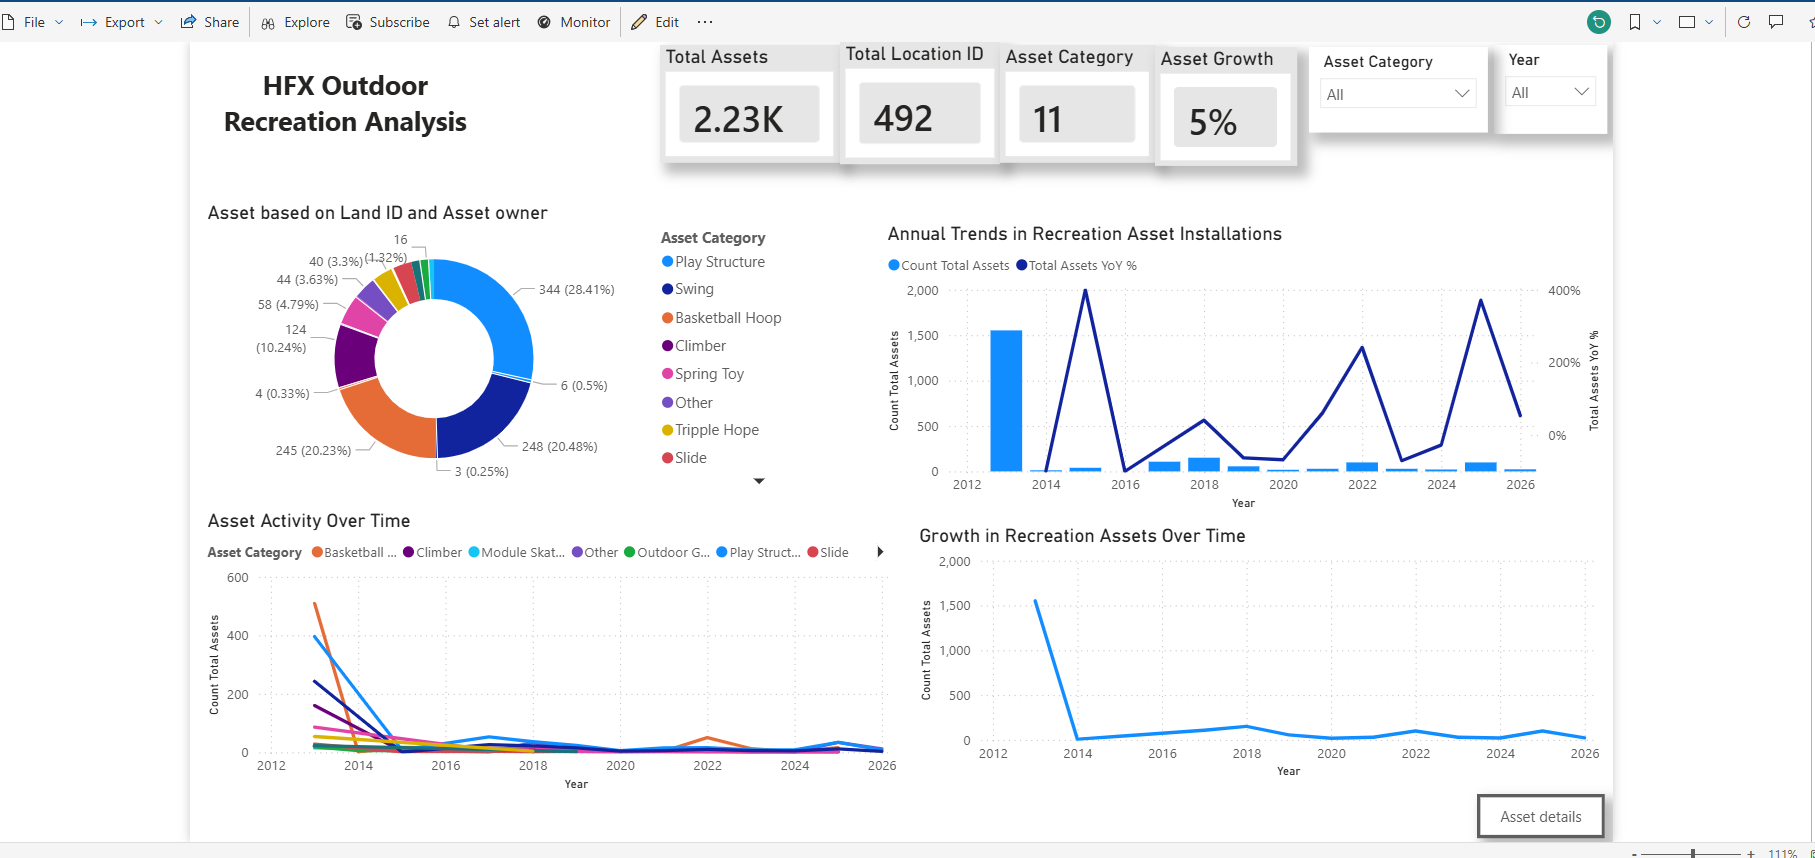

The page's visual inventory and layout, read from the dashboard file:
{"tool":"powerbi","page":{"name":"Overview","canvas":[1280,720],"ordinal":0},"visuals":[{"type":"cardVisual","title":"Total Assets","fields":{"Data":["fact Recreation.Total Records"]},"box":[422.6,2.7,161.9,105.7],"z":0},{"type":"cardVisual","title":"Total Location ID","fields":{"Data":["fact Recreation.Total Locations LandID"]},"box":[584.6,0,144.1,109.8],"z":1000},{"type":"lineChart","title":"Asset Activity Over Time","fields":{"Category":["Calender.Year"],"Y":["HFX Recreation Asset.Count Total Assets"],"Series":["Asset.Asset Category"]},"box":[11,419.9,629.8,258],"z":2000},{"type":"slicer","fields":{"Values":["Calender.Year"]},"box":[1173.2,2.7,101.5,79.6],"z":3000},{"type":"cardVisual","title":"Asset Category","fields":{"Data":["Asset.Total Asset Types"]},"box":[728.6,2.7,140,105.7],"z":4000},{"type":"lineChart","title":"Growth in Recreation Assets Over Time","fields":{"Y":["HFX Recreation Asset.Count Total Assets"],"Category":["Calender.Calender Hierarchy.Year","Calender.Calender Hierarchy.Month","Calender.Calender Hierarchy.Date Value"]},"box":[651.8,433.6,621.6,233.3],"z":5000},{"type":"donutChart","title":"Asset based on Land ID and Asset owner","fields":{"Category":["Asset.Asset Category"],"Y":["HFX Recreation Asset.Total Locations LandID"],"Series":["HFX Recreation Asset.Owner"]},"box":[11,142.7,592.8,264.8],"z":6000},{"type":"lineStackedColumnComboChart","title":"Annual Trends in Recreation Asset Installations","fields":{"Y":["HFX Recreation Asset.Count Total Assets"],"Y2":["HFX Recreation Asset.Total Assets YoY %"],"Category":["Calender.Calender Hierarchy.Year","Calender.Calender Hierarchy.Month","Calender.Calender Hierarchy.Date Value"]},"box":[623,161.9,651.8,263.5],"z":7000},{"type":"textbox","box":[0,0,279.2,110.6],"z":8000},{"type":"cardVisual","title":"Asset Growth","fields":{"Data":["HFX Recreation Asset.Total Assets YoY %"]},"box":[868.6,4.1,127.6,107],"z":9000},{"type":"actionButton","box":[1158.2,676.5,115.3,39.8],"z":10000},{"type":"slicer","fields":{"Values":["Asset.Asset Category"]},"box":[1007.2,4.1,160.5,76.8],"z":11000}]}

Visuals, with their boxes on the page's 1280x720 design canvas (x1, y1, x2, y2). These are canvas units, not pixel positions in the 1815x858 screenshot, which may show the page scaled, cropped or inside an application window:
"Total Assets" cardVisual: 423,3,584,108
"Total Location ID" cardVisual: 585,0,729,110
"Asset Activity Over Time" lineChart: 11,420,641,678
slicer - Calender.Year: 1173,3,1275,82
"Asset Category" cardVisual: 729,3,869,108
"Growth in Recreation Assets Over Time" lineChart: 652,434,1273,667
"Asset based on Land ID and Asset owner" donutChart: 11,143,604,408
"Annual Trends in Recreation Asset Installations" lineStackedColumnComboChart: 623,162,1275,425
textbox: 0,0,279,111
"Asset Growth" cardVisual: 869,4,996,111
actionButton: 1158,676,1274,716
slicer - Asset.Asset Category: 1007,4,1168,81
